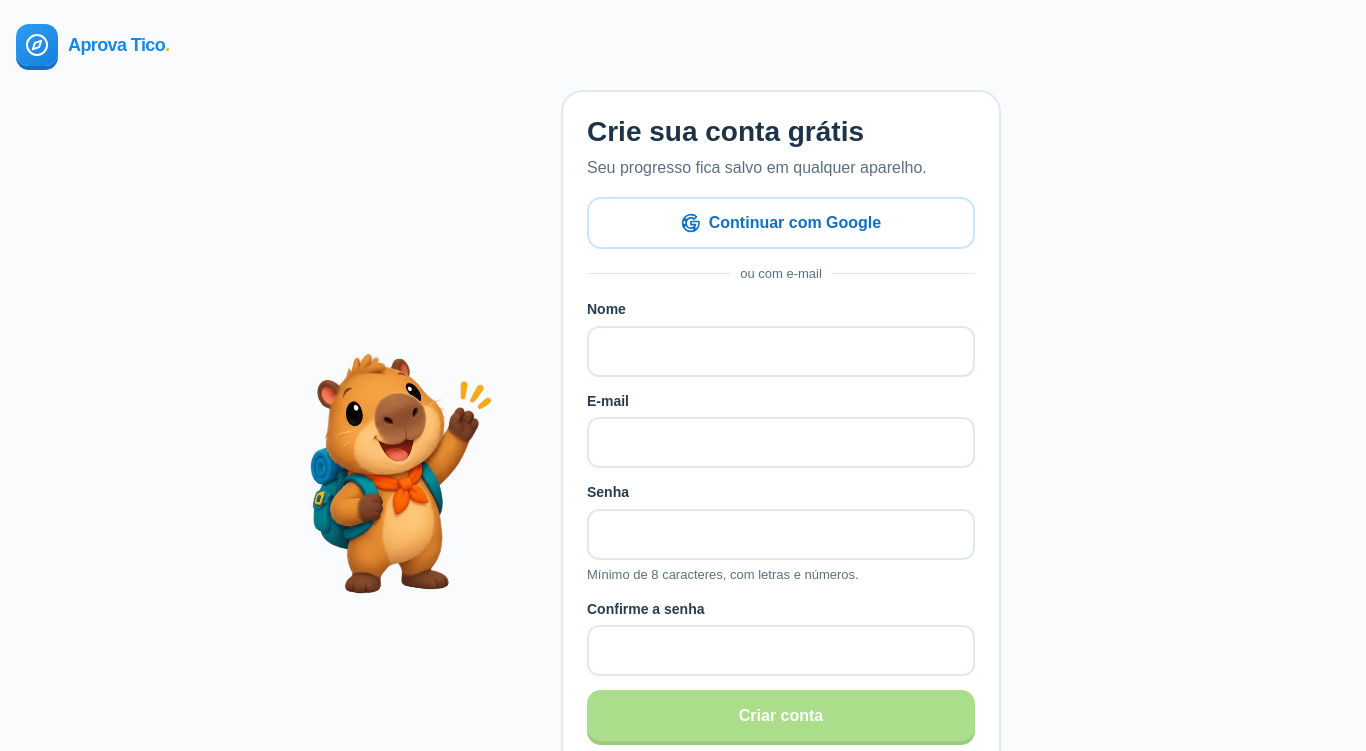
Test: cadastro › cadastro recusado pelo serviço: manda at_signup_form_error e nenhum CompleteRegistration
This screenshot has width=1366, height=751.
In the field labelled "Nome": [781, 351] box [587, 326, 975, 377], type "Maria"
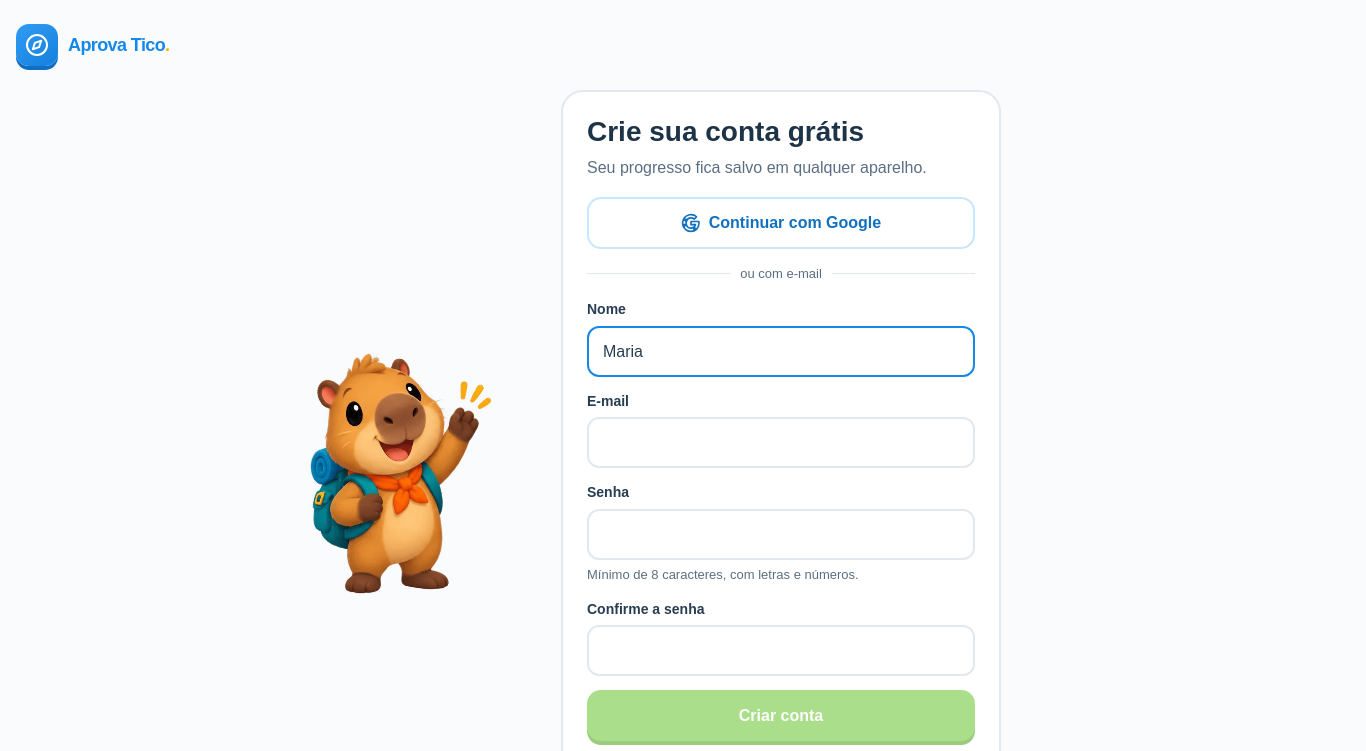
In the field labelled "E-mail": [781, 443] box [587, 417, 975, 468], type "maria@teste.dev"
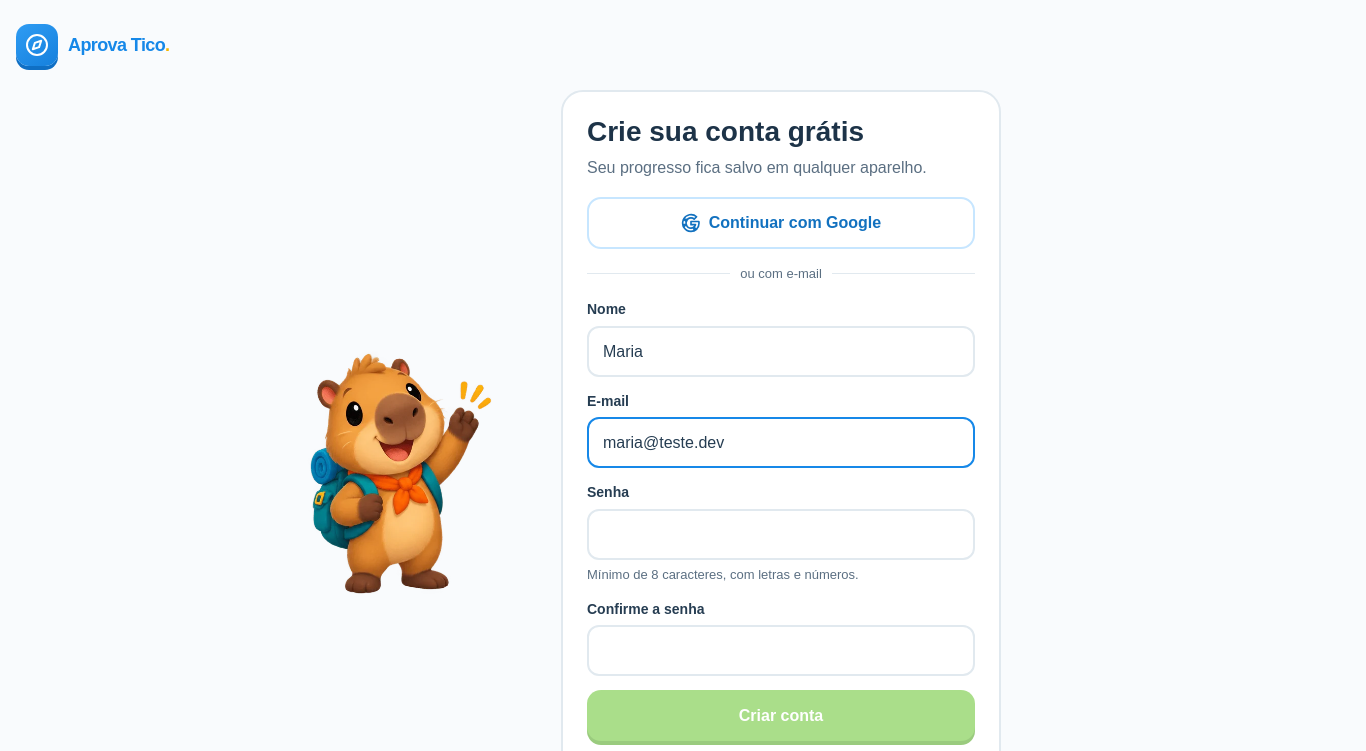
In the password field labelled "Senha": [781, 534] box [587, 509, 975, 560], type "senha1234"
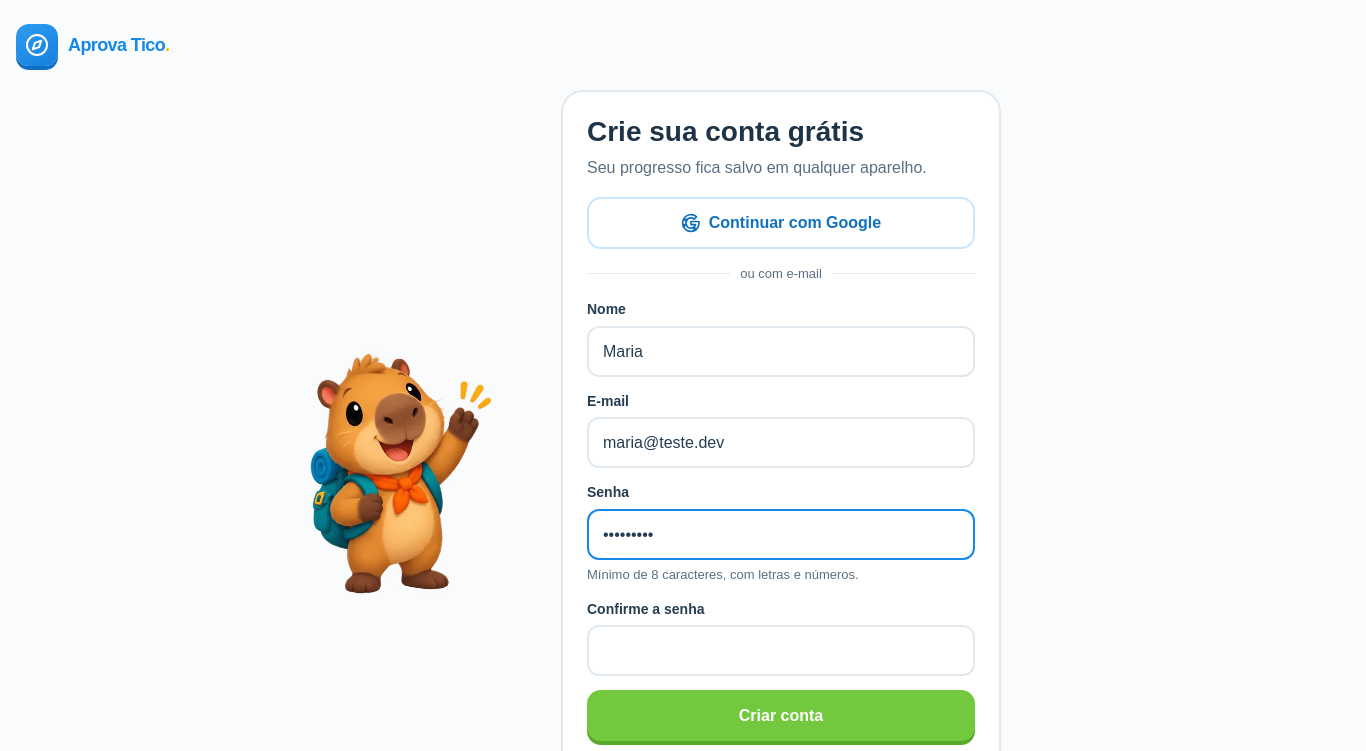
In the password field labelled "Confirme a senha": [781, 651] box [587, 625, 975, 676], type "senha1234"
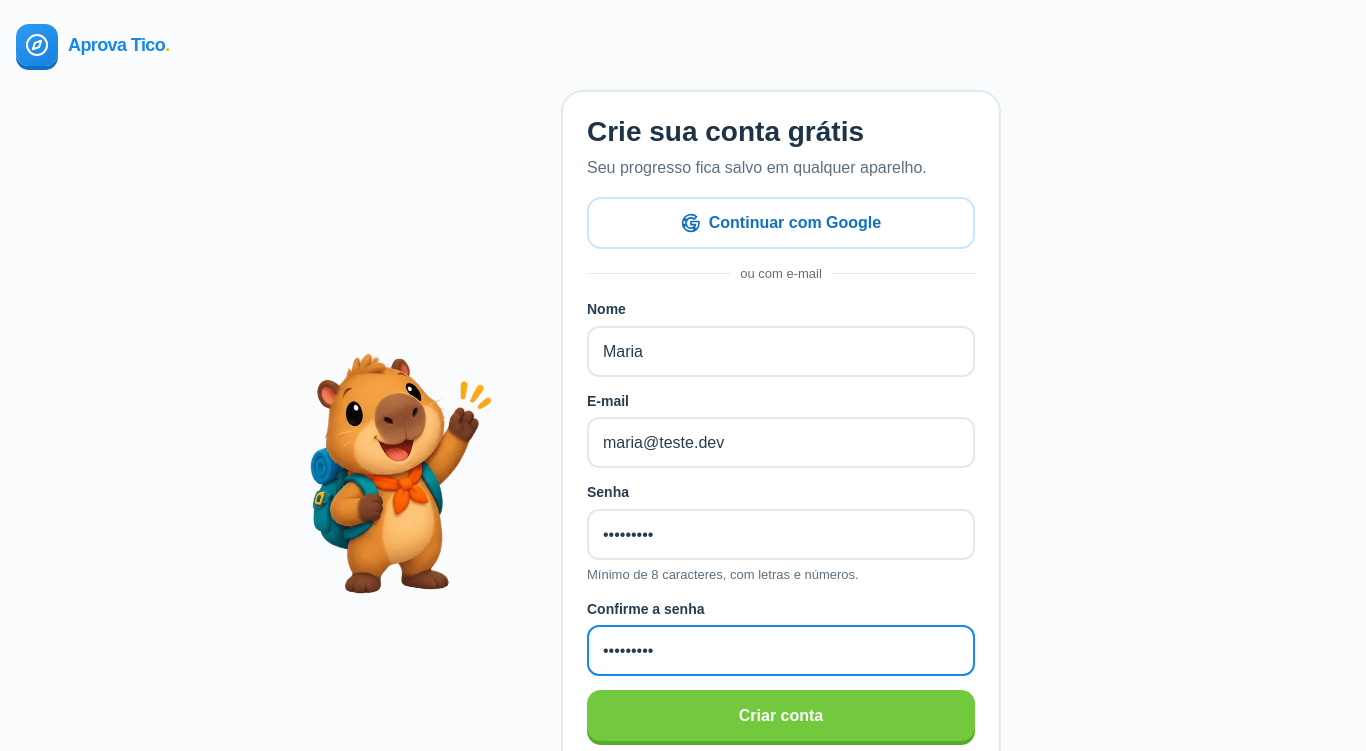
Click the button "Criar conta": [781, 716] box [587, 690, 975, 741]
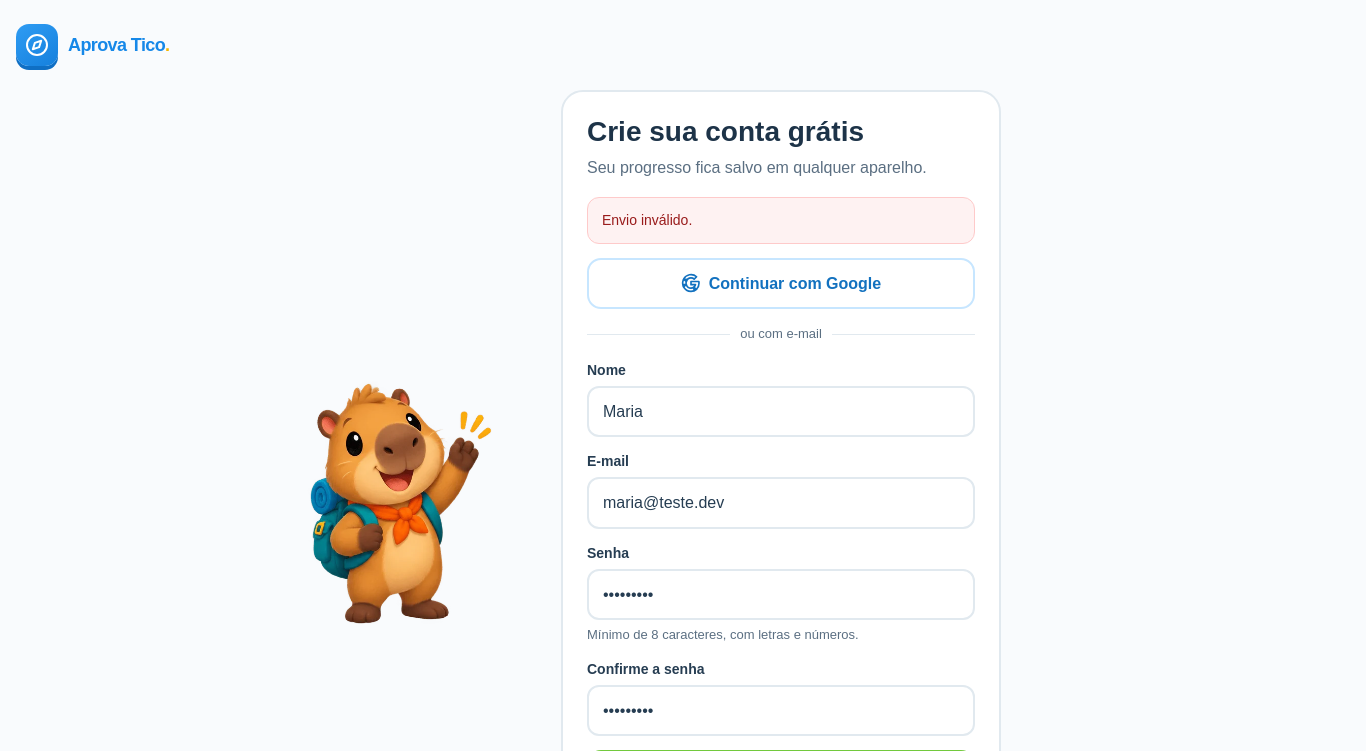
Check: the message "Envio inválido." is shown, box [587, 197, 975, 244]
